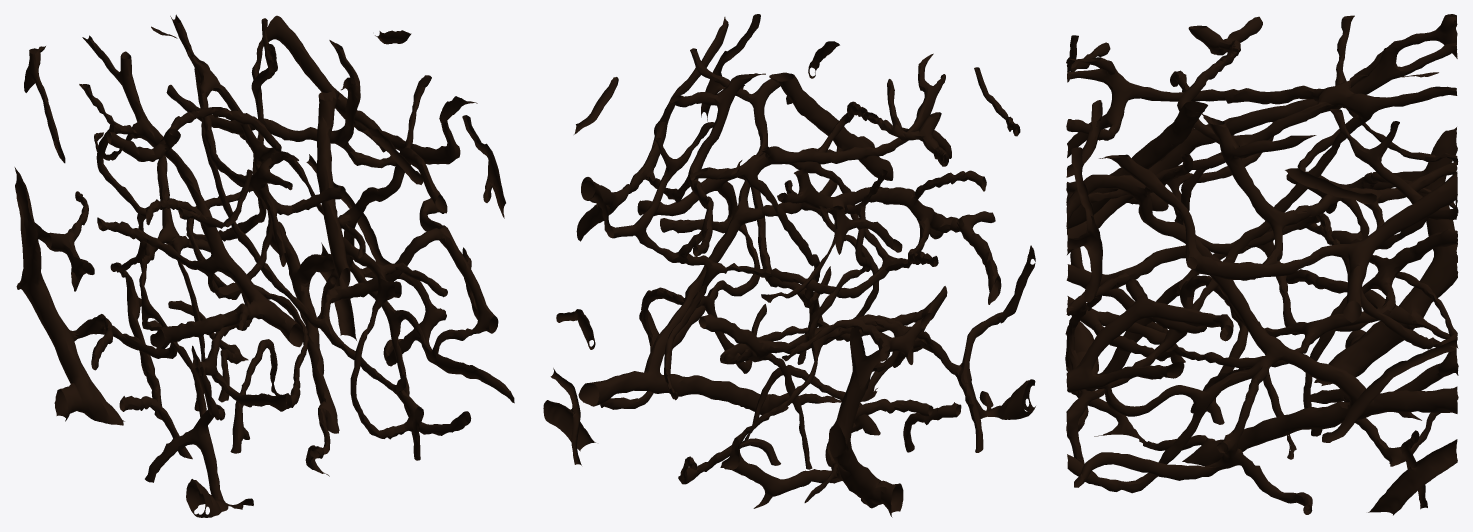
Rendered from ground_segmentation.glb.
The picture shows the model from 3 angles, left to right: view 1: azimuth 30°, elevation 25°; view 2: azimuth 150°, elevation 25°; view 3: azimuth 270°, elevation 25°; orthographic projection. The views are drawn at different scales.
Visible parts, largest first — view 1: Volume, Volume.001; view 2: Volume, Volume.001; view 3: Volume, Volume.001.
Boxes of the visible parts, x1,y1,x2,y2 form: Volume: [14, 14, 514, 517]; Volume.001: [317, 242, 356, 340]; Volume: [551, 14, 1035, 517]; Volume.001: [543, 368, 595, 465]; Volume: [1065, 14, 1458, 514]; Volume.001: [1368, 430, 1457, 515].
Size of the model in its own units: 49.65 by 49.52 by 49.56.
